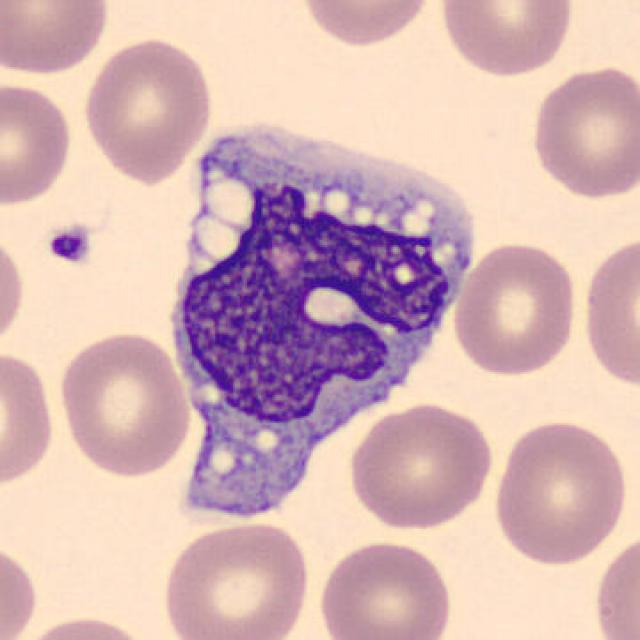Monocyte: (153, 97, 480, 501)
Platelets: (43, 222, 96, 268)
RBC: (489, 416, 631, 568), (53, 328, 194, 479), (80, 34, 217, 185), (345, 398, 498, 532), (158, 518, 313, 640), (448, 238, 581, 379), (526, 61, 638, 202), (315, 536, 457, 640), (435, 0, 577, 79), (0, 77, 76, 208), (578, 231, 638, 393), (0, 0, 114, 79), (0, 346, 59, 494), (295, 0, 437, 49), (590, 527, 638, 640), (0, 536, 41, 640), (9, 612, 158, 640), (0, 226, 28, 358)
